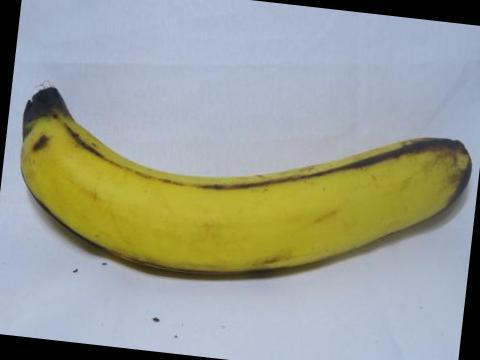ripe: (12, 82, 479, 277)
